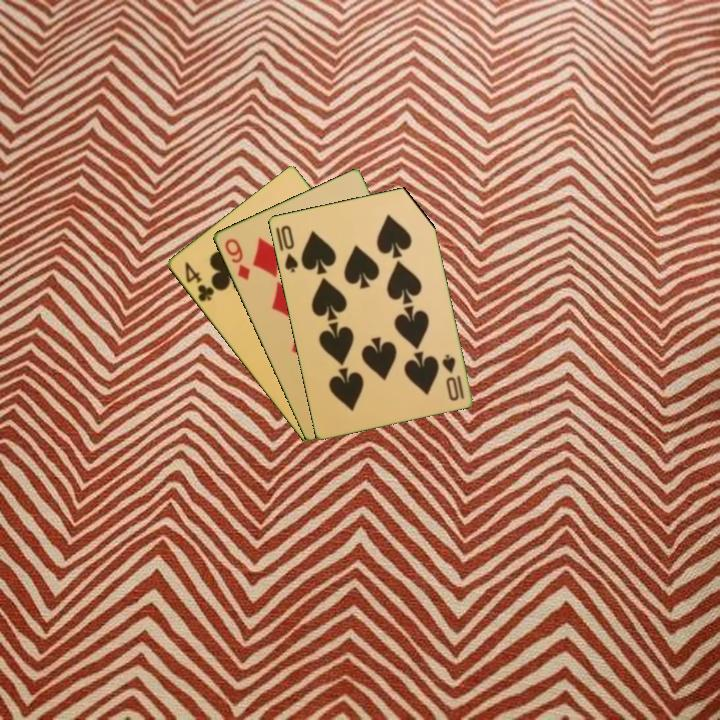10s: (438, 350, 467, 404), (277, 221, 301, 275)
4c: (180, 258, 217, 305)
9d: (221, 234, 253, 283)
